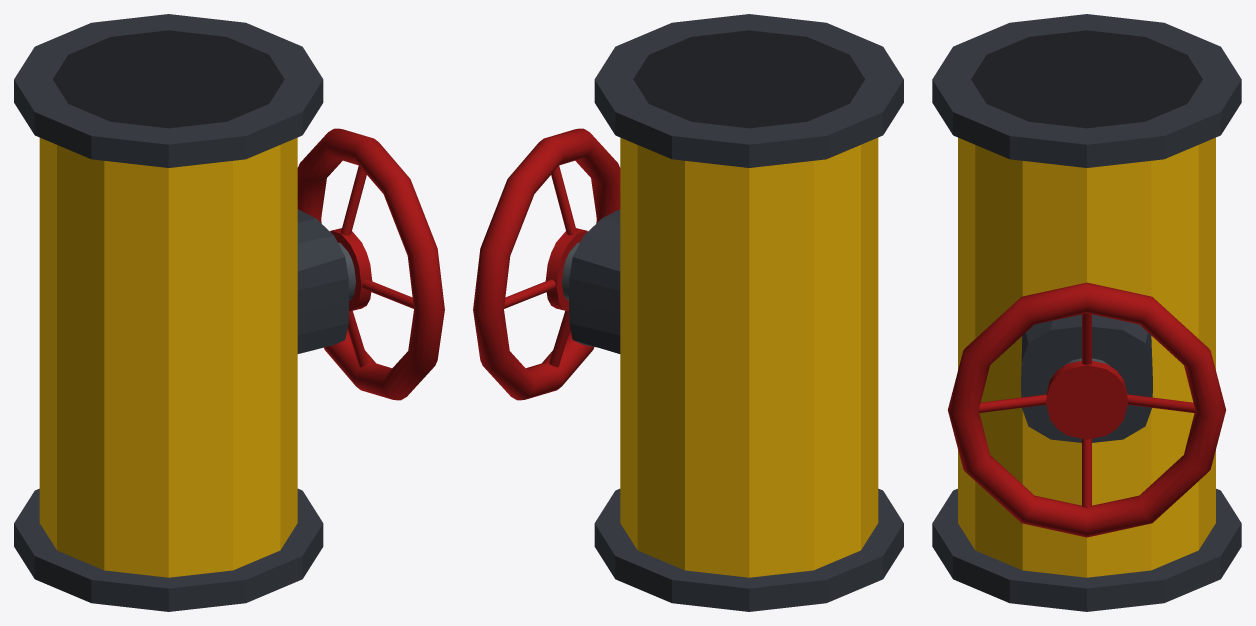
Rendered from Pipe_0.5x1_Valve.fbx.
The picture shows the model from 3 angles, left to right: view 1: azimuth 30°, elevation 25°; view 2: azimuth 150°, elevation 25°; view 3: azimuth 270°, elevation 25°; orthographic projection.
Parts seen in each view (by area): view 1: Pipe_0.5x1_Valve, Pipe_0.5x1_Valve_Wheel; view 2: Pipe_0.5x1_Valve, Pipe_0.5x1_Valve_Wheel; view 3: Pipe_0.5x1_Valve, Pipe_0.5x1_Valve_Wheel.
Boxes of the visible parts, bbox=[...] form: Pipe_0.5x1_Valve: bbox=[14, 14, 348, 611]; Pipe_0.5x1_Valve_Wheel: bbox=[297, 128, 444, 400]; Pipe_0.5x1_Valve: bbox=[569, 14, 903, 611]; Pipe_0.5x1_Valve_Wheel: bbox=[473, 128, 620, 400]; Pipe_0.5x1_Valve: bbox=[932, 14, 1241, 611]; Pipe_0.5x1_Valve_Wheel: bbox=[948, 282, 1225, 537].
Size of the model in its own units: 77.54 by 100 by 60.
